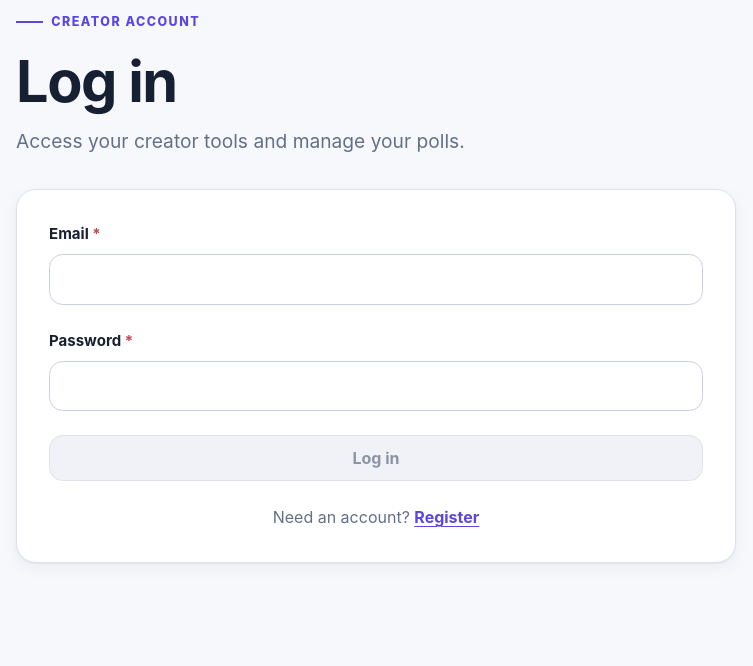
Test: LoginView › displays invalid-credential errors from the authentication service
Type "creator@example.com" into the field with id "login-email" at (376, 279), box [49,254,703,305]
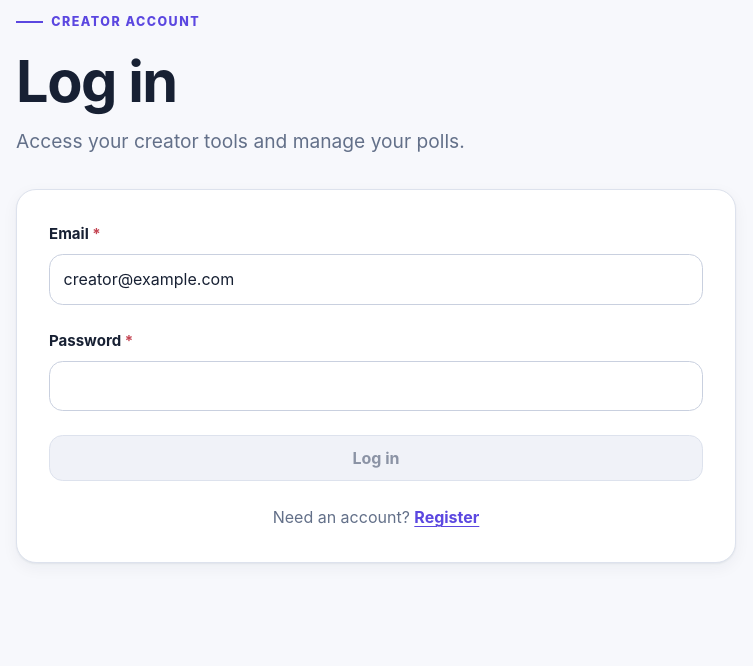
Type "Password1!" into the password field with id "login-password" at (376, 386), box [49,361,703,411]
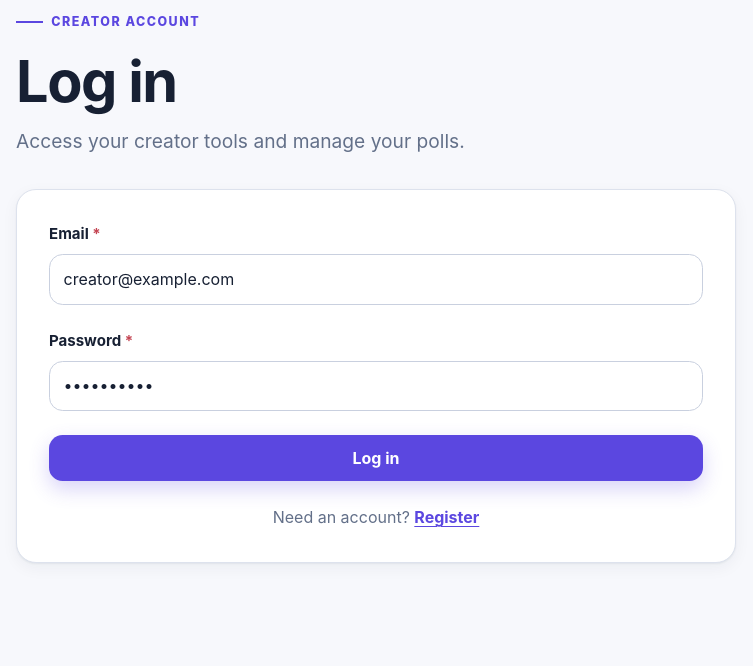
Submit the form, box [16,189,736,564]
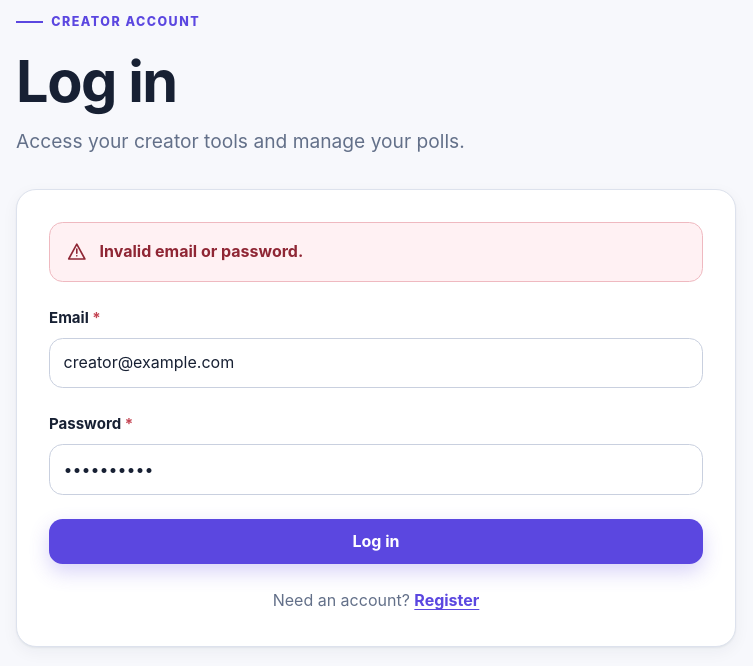
expect the message "Invalid email or password." is shown: met, box [49,222,703,282]
